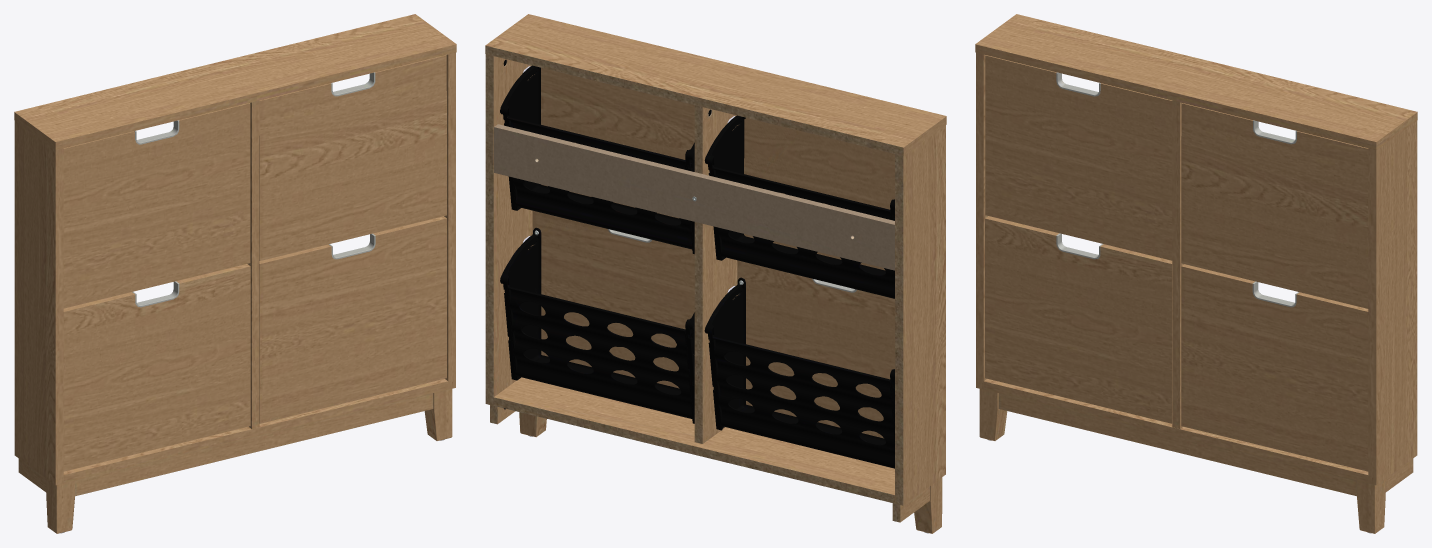
Rendered from stall_szafka_na_buty_4_przegrody_40530229.glb.
The picture shows the model from 3 angles, left to right: view 1: azimuth 30°, elevation 25°; view 2: azimuth 150°, elevation 25°; view 3: azimuth 330°, elevation 25°; orthographic projection. The views are drawn at different scales.
Visible parts, largest first — view 1: stall_szafka_na_buty_4_przegrody_40530229; view 2: stall_szafka_na_buty_4_przegrody_40530229; view 3: stall_szafka_na_buty_4_przegrody_40530229.
Part boxes in pixels (x1=…): stall_szafka_na_buty_4_przegrody_40530229: x1=14, y1=14, x2=456, y2=533; stall_szafka_na_buty_4_przegrody_40530229: x1=485, y1=14, x2=946, y2=533; stall_szafka_na_buty_4_przegrody_40530229: x1=975, y1=14, x2=1417, y2=533.
Bounding box in the file's own units: 0.957 × 0.903 × 0.171.
Materials: 1 (1 with a texture image).
